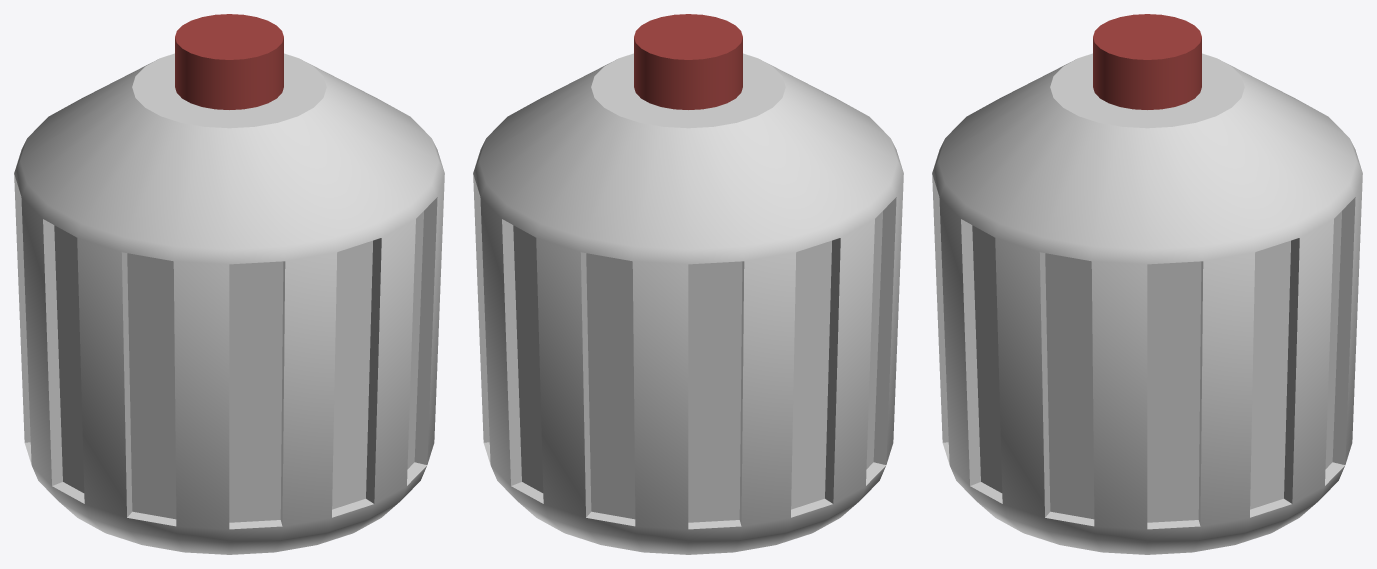
Rendered from hydroponics_tank.glb.
The picture shows the model from 3 angles, left to right: view 1: azimuth 30°, elevation 25°; view 2: azimuth 150°, elevation 25°; view 3: azimuth 270°, elevation 25°; orthographic projection.
Visible parts, largest first — view 1: Cube.002; view 2: Cube.002; view 3: Cube.002.
Boxes of the visible parts, x1,y1,x2,y2 form: Cube.002: (14, 14, 444, 554); Cube.002: (473, 14, 903, 554); Cube.002: (932, 14, 1362, 554).
Bounding box in the file's own units: 1.73 × 1.97 × 1.73.
